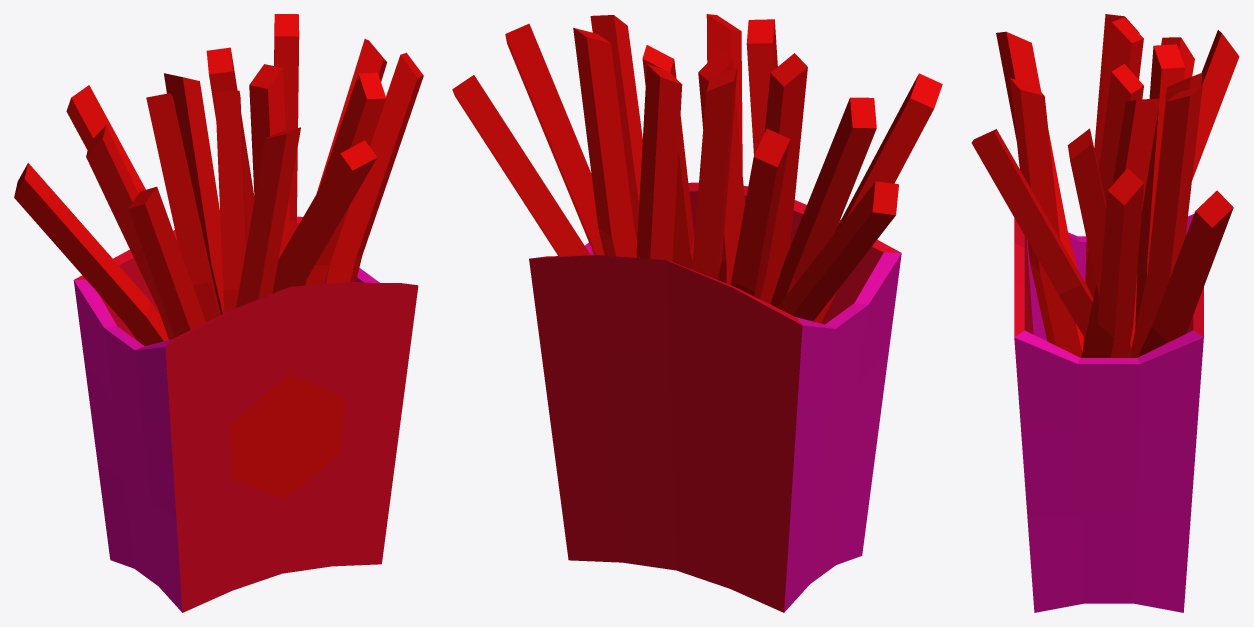
File: FrenchFries_01.fbx
3 views of the same model, side by side, from view 1: azimuth 30°, elevation 25°; view 2: azimuth 150°, elevation 25°; view 3: azimuth 270°, elevation 25° (orthographic). The views are drawn at different scales.
Parts seen in each view (by area): view 1: FrenchFries_01; view 2: FrenchFries_01; view 3: FrenchFries_01.
Boxes of the visible parts, x1,y1,x2,y2 form: FrenchFries_01: (14,14,423,612); FrenchFries_01: (452,14,942,612); FrenchFries_01: (971,14,1239,612).
Size of the model in its own units: 6.96 by 8.47 by 4.
